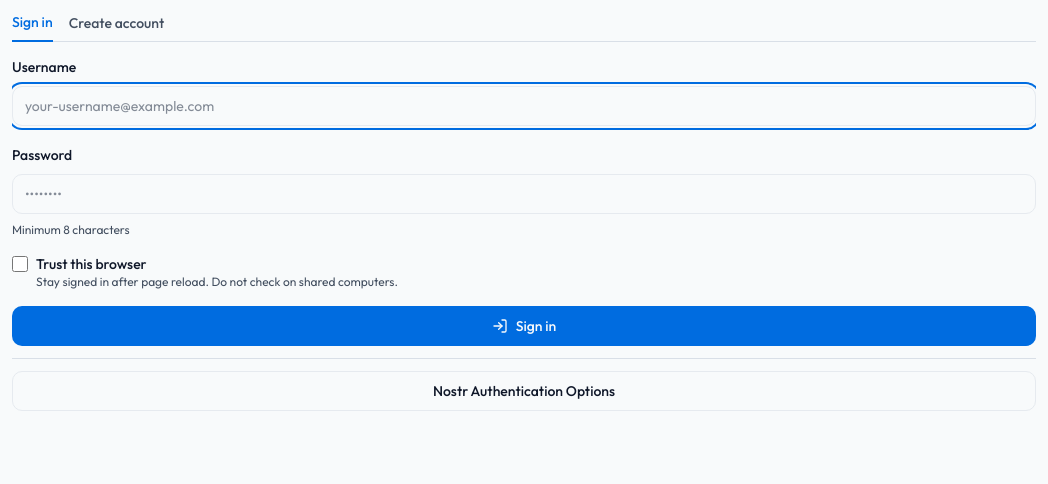
Scenario: Noas auth forms › requires a full nip05 handle when no default host is available
In the field labelled "Username": [524, 106] box [12, 86, 1036, 126], type "alice"
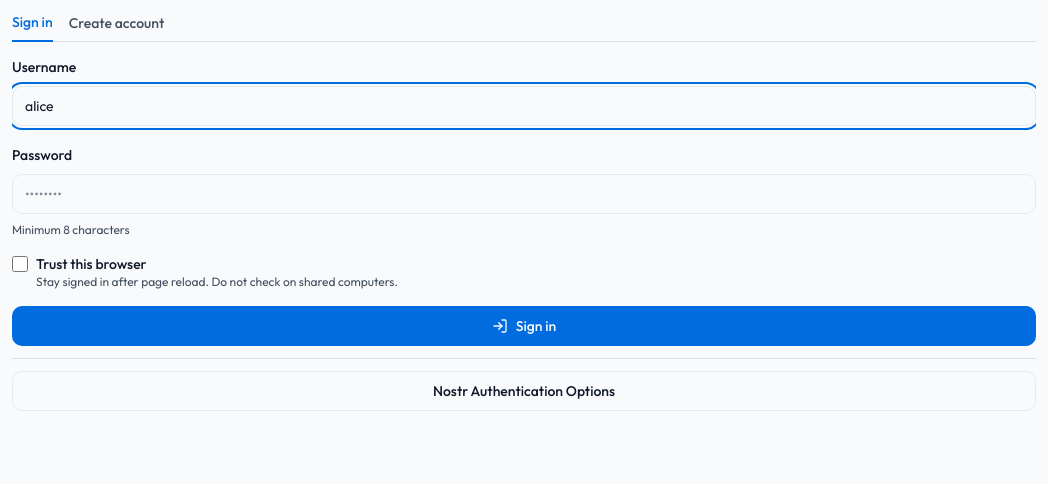
In the password field labelled "Password": [524, 194] box [12, 174, 1036, 214], type "password123"
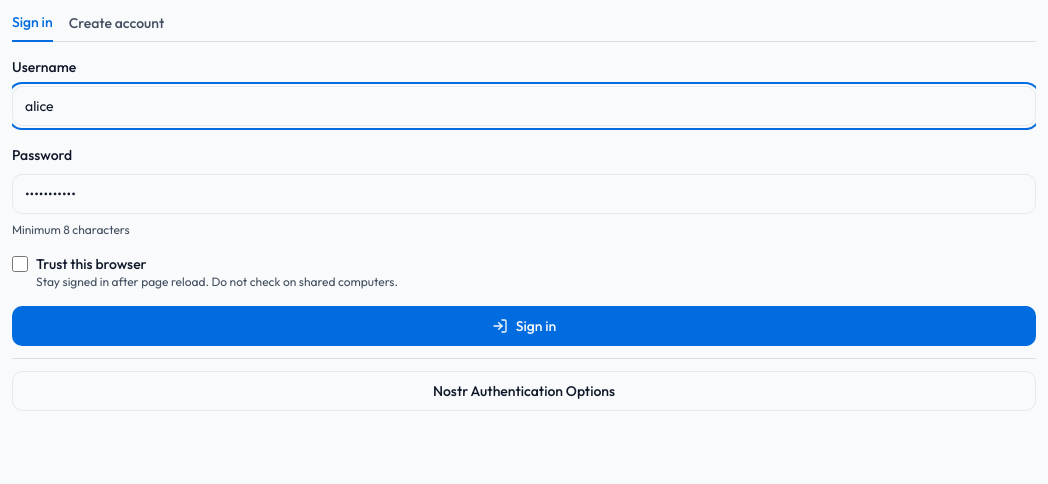
Click the button with test id "noas-auth-submit": [524, 326] box [12, 306, 1036, 346]
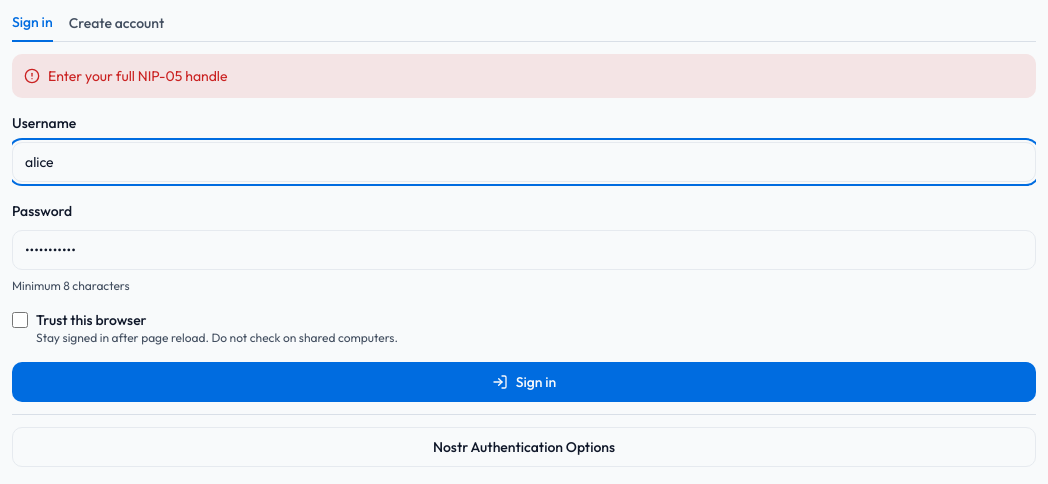
Check: the text "Enter your full NIP-05 handle" is shown, box [48, 66, 228, 86]
